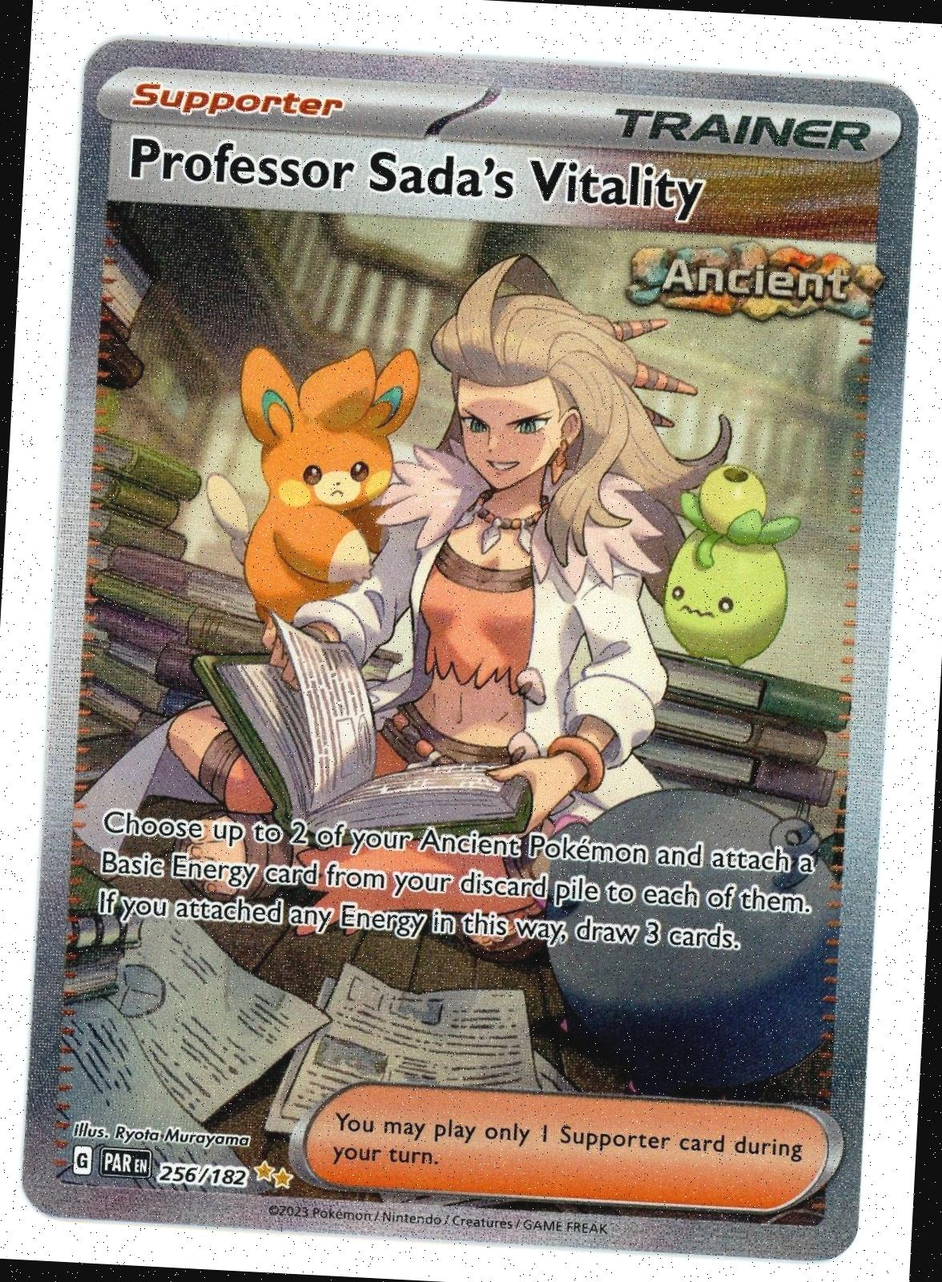card-2UtV: (21, 38, 919, 1262)
